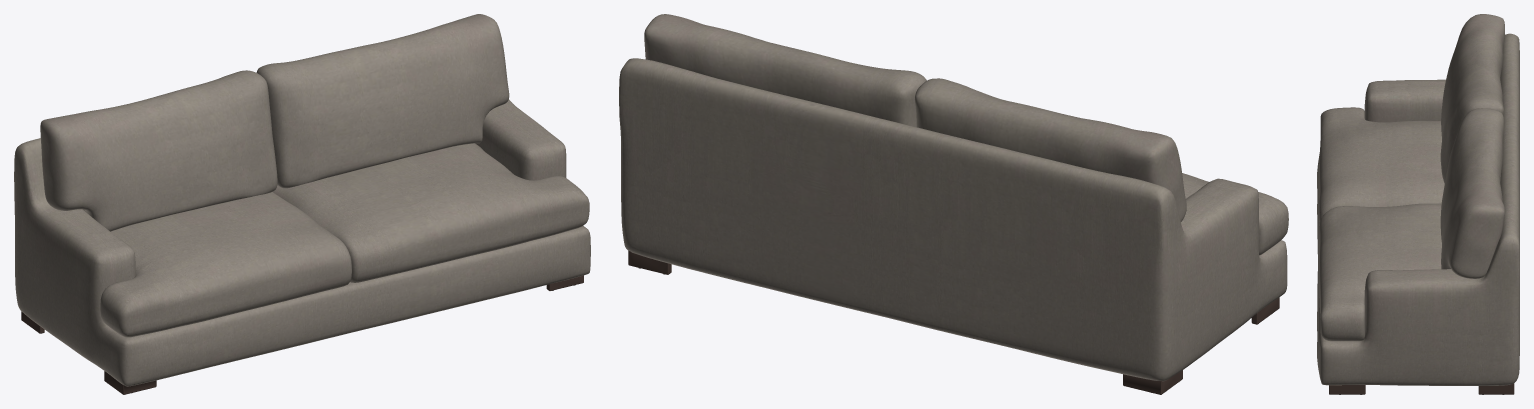
File: lauren_oversized_down_sofa.glb
3 renders of one model, left to right at view 1: azimuth 30°, elevation 25°; view 2: azimuth 150°, elevation 25°; view 3: azimuth 270°, elevation 25°, orthographic. The views are drawn at different scales.
Visible parts, largest first — view 1: RootNode; view 2: RootNode; view 3: RootNode.
Boxes of the visible parts, x1,y1,x2,y2 form: RootNode: (14, 14, 590, 394); RootNode: (619, 14, 1288, 394); RootNode: (1317, 14, 1519, 394).
Size of the model in its own units: 2.35 by 0.9797 by 0.9616.
1 material, 1 textured.
